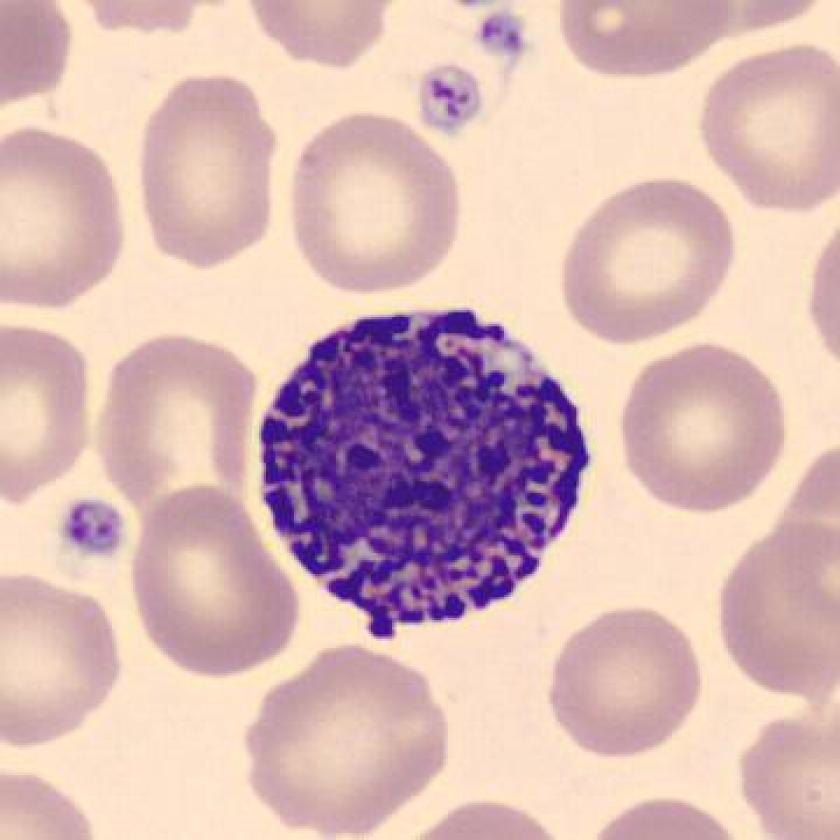basophil: (258, 300, 596, 631)
